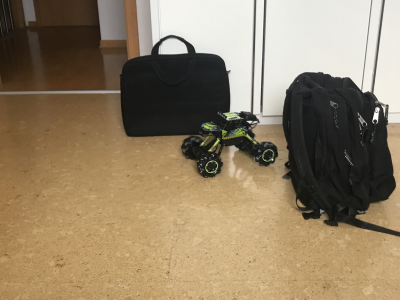remote control car: (179, 108, 281, 180)
